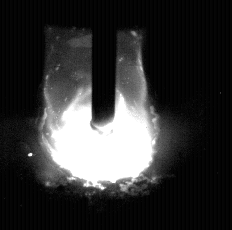arame: (92, 0, 117, 136)
poca: (39, 0, 158, 230)
